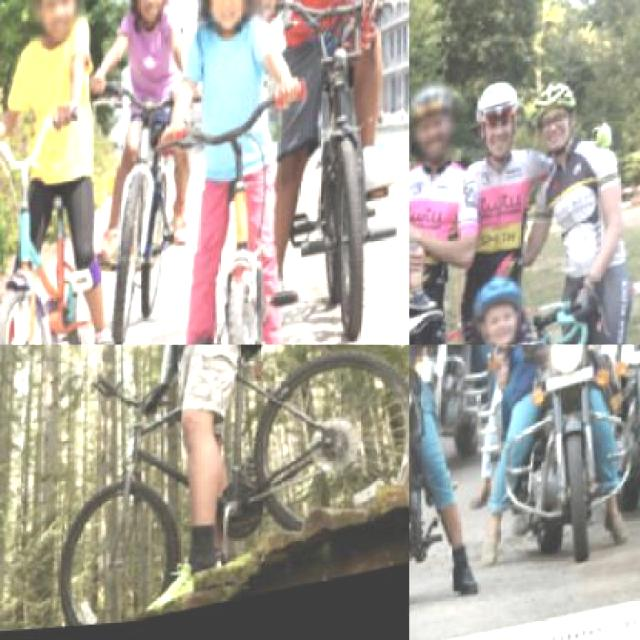With Helmet: (469, 76, 536, 175), (409, 77, 471, 174), (468, 268, 546, 343), (529, 79, 594, 161), (189, 0, 288, 43), (20, 0, 100, 52), (120, 0, 188, 29)
